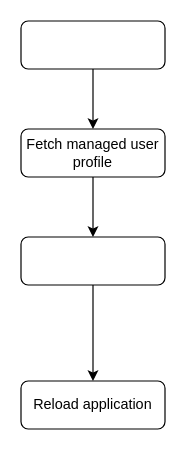
Image size: 186x450. Some labels were removed from this diagram. The shapes that lost their labels are listed below. From the top down, each one's centre as x and y in pixels, then its label:
point (92, 44): User Switches profile
point (92, 260): Store data in session
